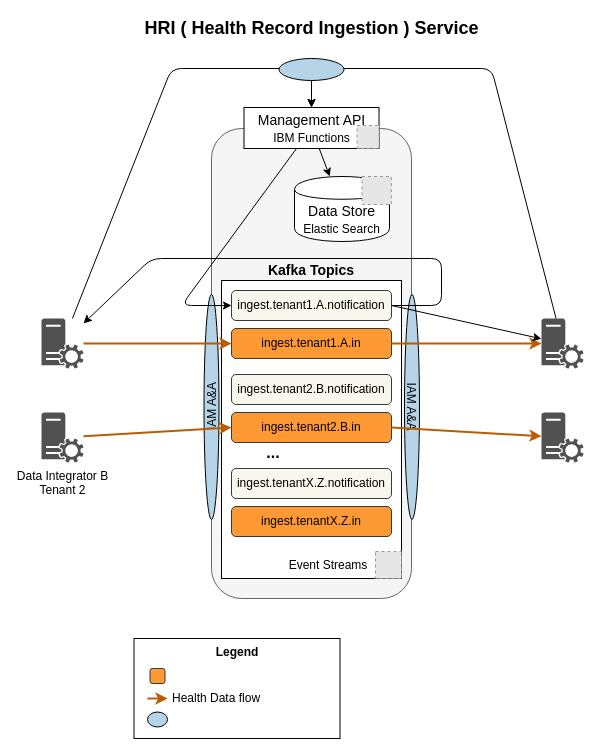
Image size: 607x756. Some labels were removed from this diagram. Grey dashed boxes stand in for pictures. Here are the shapes that lost their labels. From the top down, the centre of each, then its label:
[311,69]: A&A
[62,343]: Data Integrator A Tenant 1
[562,343]: Consumer Tenant 1
[562,437]: Consumer Tenant 2
[157,676]: Health Data at rest
[157,719]: Authentication & Authorization
